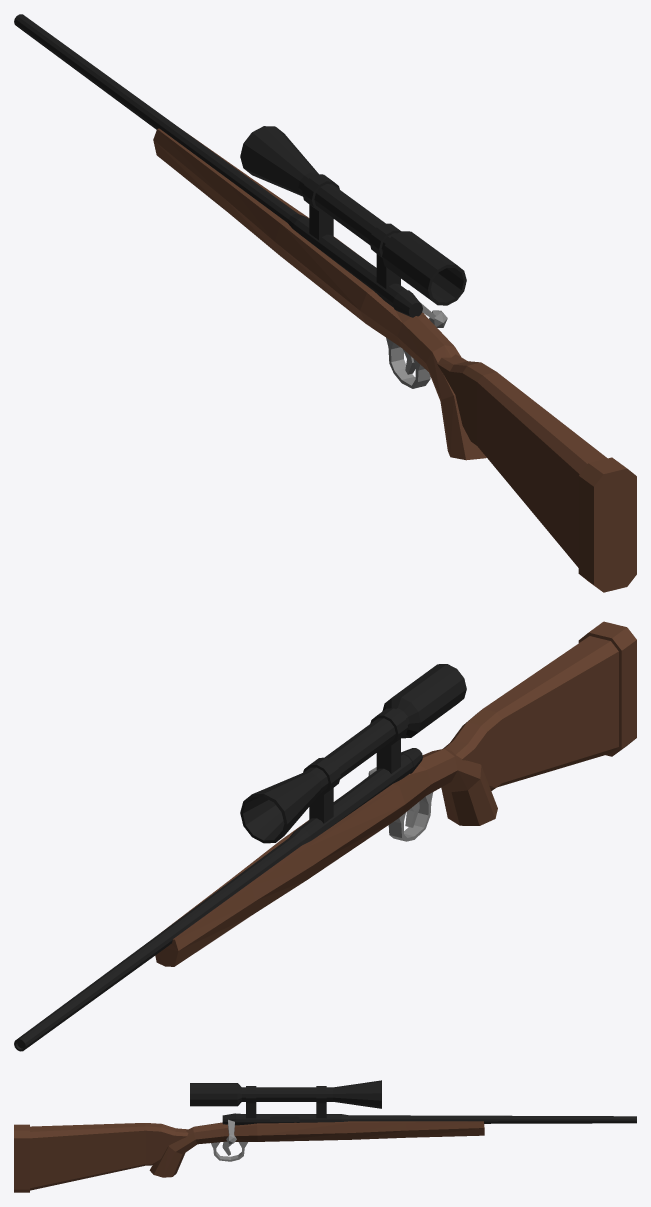
3 views of the same model, one above another, from view 1: azimuth 30°, elevation 25°; view 2: azimuth 150°, elevation 25°; view 3: azimuth 270°, elevation 25° (orthographic). The views are drawn at different scales.
Parts seen in each view (by area): view 1: Sniper_01_Cube; view 2: Sniper_01_Cube; view 3: Sniper_01_Cube.
Part boxes in pixels (x1=…): Sniper_01_Cube: x1=14, y1=14, x2=636, y2=592; Sniper_01_Cube: x1=14, y1=621, x2=636, y2=1051; Sniper_01_Cube: x1=14, y1=1080, x2=636, y2=1192.
Size of the model in its own units: 0.2807 by 0.8963 by 4.69.
